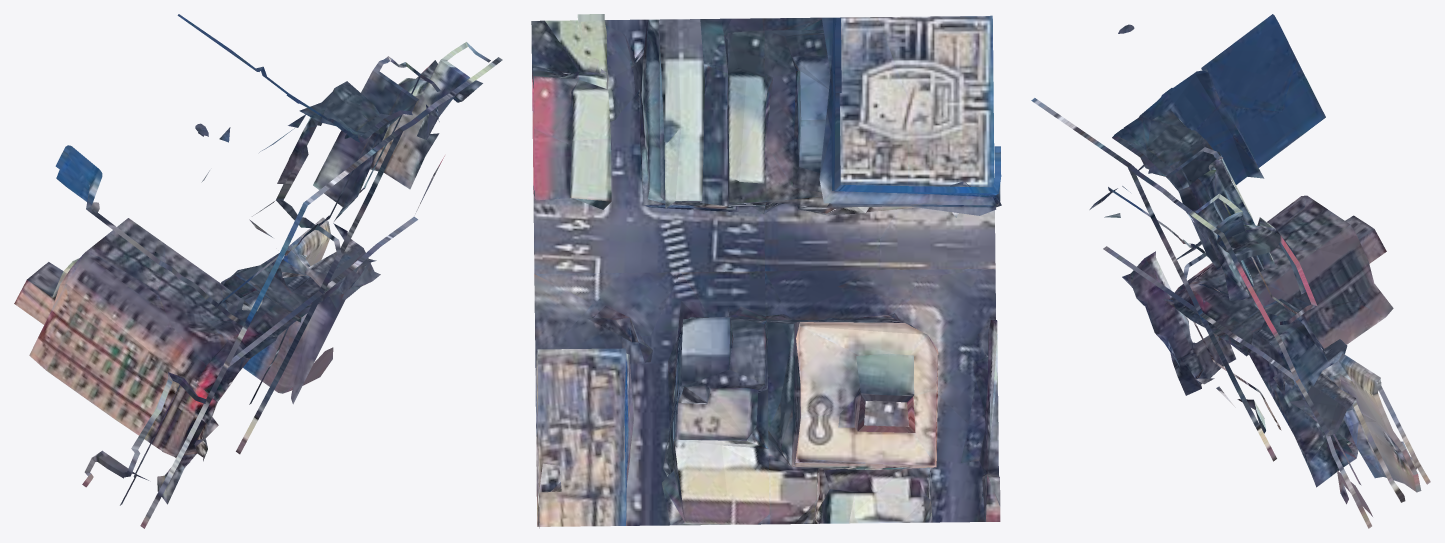
3 views of the same model, side by side, from view 1: azimuth 30°, elevation 25°; view 2: azimuth 150°, elevation 25°; view 3: azimuth 270°, elevation 25° (orthographic). The views are drawn at different scales.
Bounding box in the file's own units: 85.54 × 87.1 × 75.16.
Materials: 2 (2 with a texture image).
